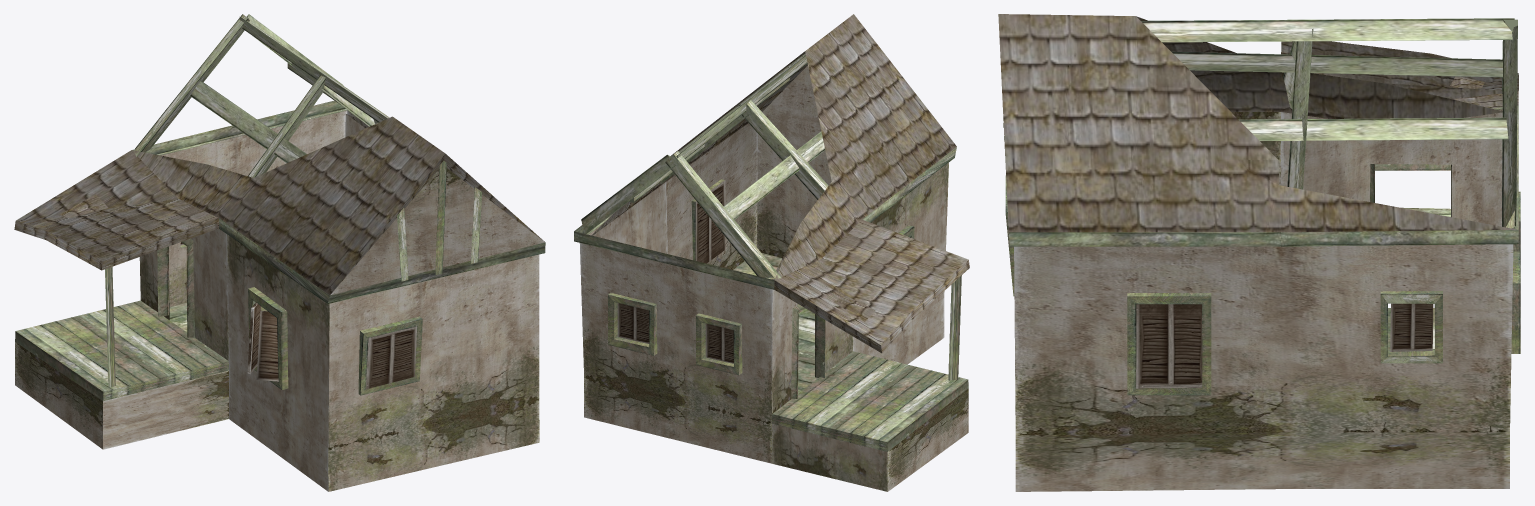
The model's file is english_n_burned.fbx.
3 views of the same model, side by side, from view 1: azimuth 30°, elevation 25°; view 2: azimuth 150°, elevation 25°; view 3: azimuth 270°, elevation 25° (orthographic). The views are drawn at different scales.
Visible parts, largest first — view 1: building_shell1, building_shell3, window_a_01, beam_vert_tall021, beam_vert_tall023, beam_vert_tall09, door_frame, window_a_03, beam_vert_tall025, window_a_06, beam_vert_tall017, beam_vert_tall011 (+3 smaller); view 2: building_shell1, building_shell3, beam_vert_tall023, beam_vert_tall021, beam_vert_tall025, window_a_02, beam_vert_tall022, beam_vert_tall09, window_b_01, window_b_02, door_frame, window_a_020 (+3 smaller); view 3: building_shell1, building_shell3, window_a_02, beam_vert_tall09, beam_vert_tall021, beam_vert_tall020, beam_vert_tall022, window_b_03, beam_vert_tall024, window_a_015, window_b_01, door_frame.
Part boxes in pixels (x1,y1,x2,y2): building_shell1: (14,100,545,491); building_shell3: (164,113,368,388); window_a_01: (358,316,422,395); beam_vert_tall021: (190,81,306,162); beam_vert_tall023: (135,14,249,156); beam_vert_tall09: (239,17,389,122); door_frame: (157,238,195,337); window_a_03: (248,287,288,389); beam_vert_tall025: (248,75,325,177); window_a_06: (256,310,278,381); beam_vert_tall017: (105,266,115,387); beam_vert_tall011: (435,161,446,275); building_shell1: (574,14,969,491); building_shell3: (591,51,831,393); beam_vert_tall023: (665,151,781,278); beam_vert_tall021: (724,131,824,219); beam_vert_tall025: (741,100,828,199); window_a_02: (691,179,725,263); beam_vert_tall022: (581,154,675,233); beam_vert_tall09: (676,53,807,158); window_b_01: (608,293,657,355); window_b_02: (696,313,742,375); door_frame: (791,304,825,399); window_a_020: (617,303,649,343); building_shell1: (998,14,1518,491); building_shell3: (1136,16,1502,349); window_a_02: (1127,293,1211,395); beam_vert_tall09: (1141,18,1514,42); beam_vert_tall021: (1171,51,1502,77); beam_vert_tall020: (1239,117,1508,140); beam_vert_tall022: (1502,25,1517,228); window_b_03: (1380,291,1442,363); beam_vert_tall024: (1287,29,1313,189); window_a_015: (1390,303,1433,351); window_b_01: (1511,251,1520,353); door_frame: (1370,164,1451,217).
Bounding box in the file's own units: 4156 × 3692 × 4214.
Materials: 1 (1 with a texture image).
